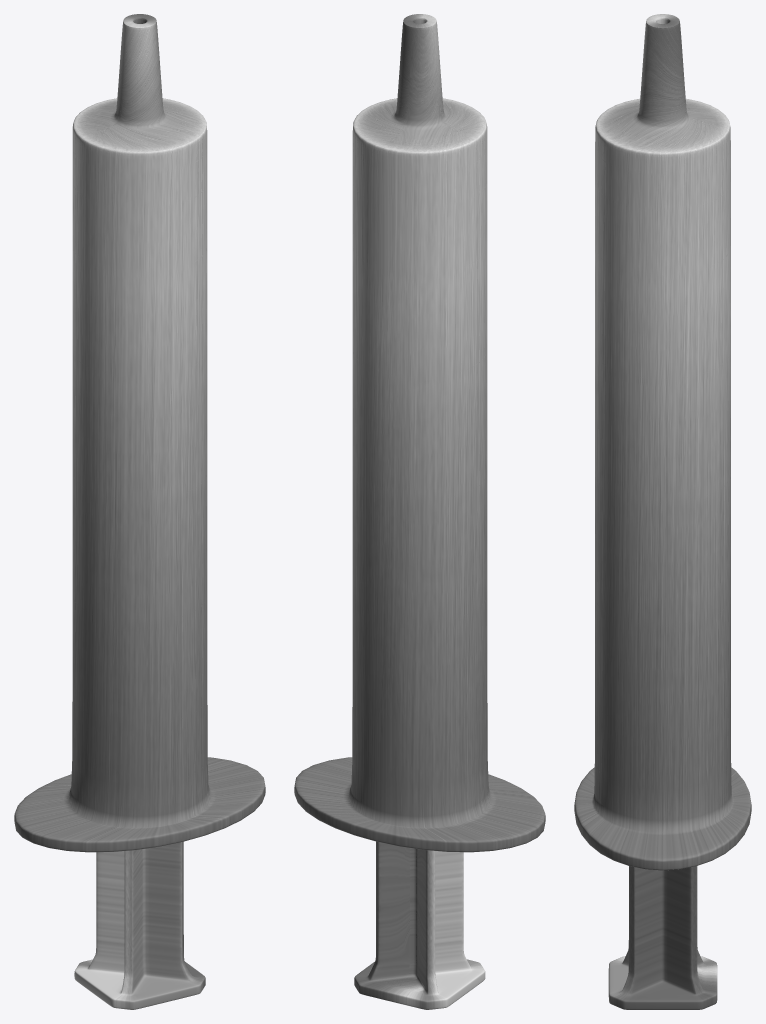
Rendered from syringe.obj.
3 renders of one model, left to right at view 1: azimuth 30°, elevation 25°; view 2: azimuth 150°, elevation 25°; view 3: azimuth 270°, elevation 25°, orthographic.
Parts seen in each view (by area): view 1: spritze; view 2: spritze; view 3: spritze.
Boxes of the visible parts, x1,y1,x2,y2 form: spritze: (14, 14, 265, 1009); spritze: (294, 14, 545, 1009); spritze: (574, 14, 751, 1009).
Bounding box in the file's own units: 2.55 × 9.96 × 1.65.
1 material, 1 textured.
